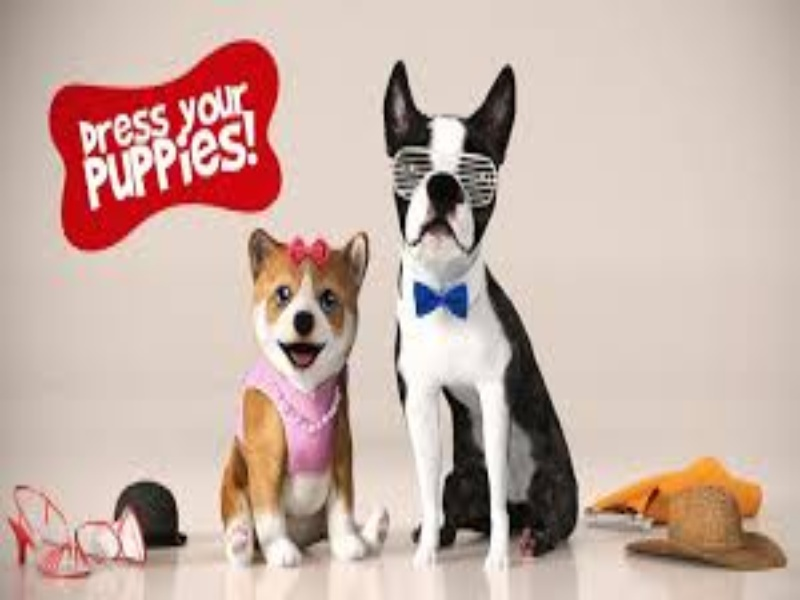dog: (373, 51, 592, 581), (218, 225, 395, 577)
